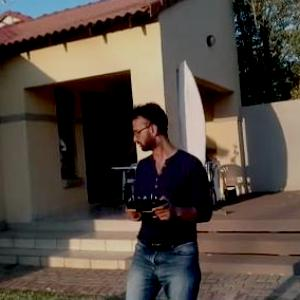follow: (120, 101, 216, 299)
